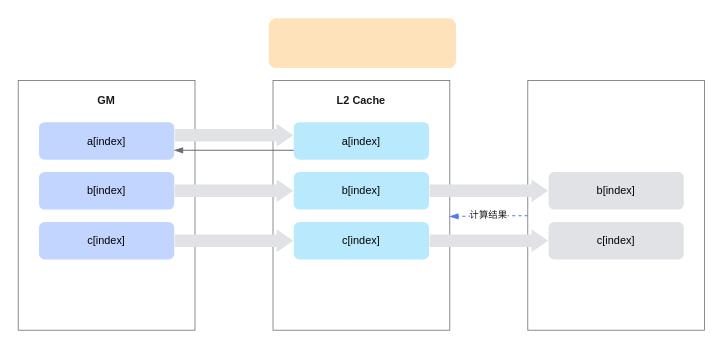
This 723x348 diagram has some shape labels left out. Each missing label, with the box of its shape:
L2 侧完成原子加 读旧值 + 计算加法 + 写回: (268, 18, 456, 68)
寄存器: (527, 80, 704, 330)
